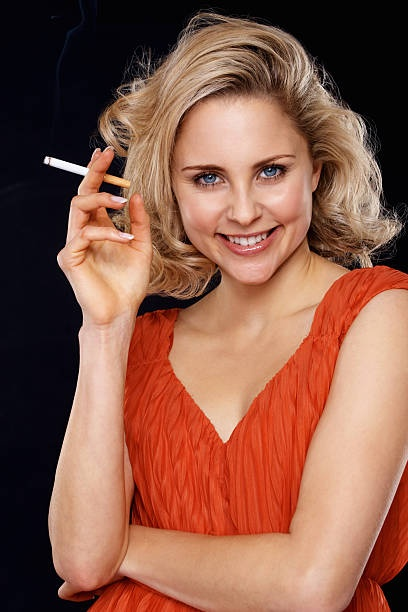sigaretta: (33, 150, 145, 192)
